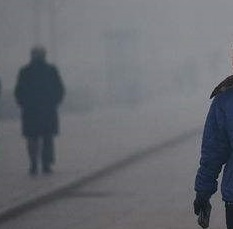person: (14, 44, 67, 177), (191, 74, 232, 229)
